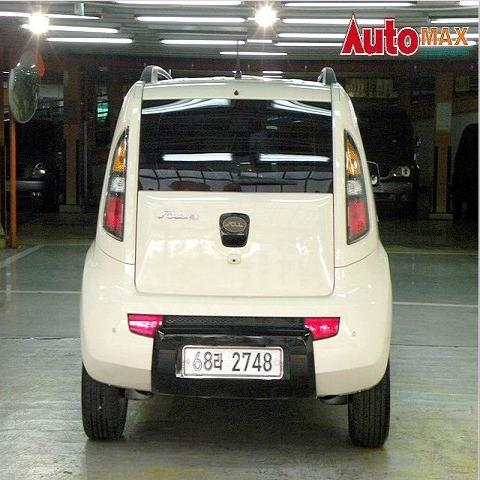LP: (176, 340, 290, 384)
